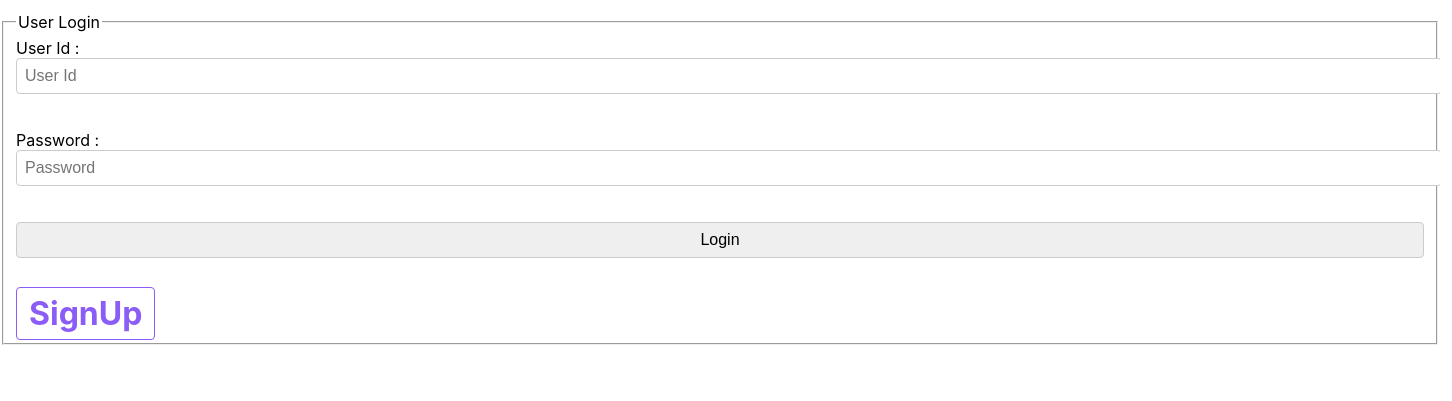
Test case: Login Component › should display invalid message for wrong credentails
Type "hello" into the field with placeholder "User Id" at x=728, y=76, box 16,58 -> 1440,94
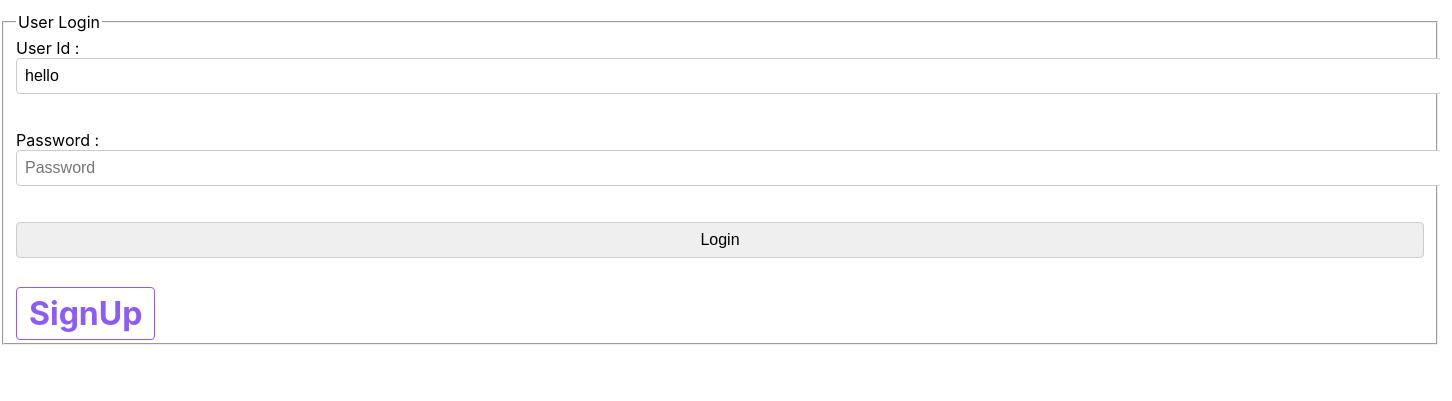
Type "admin123" into the password field with placeholder "Password" at x=728, y=168, box 16,150 -> 1440,186
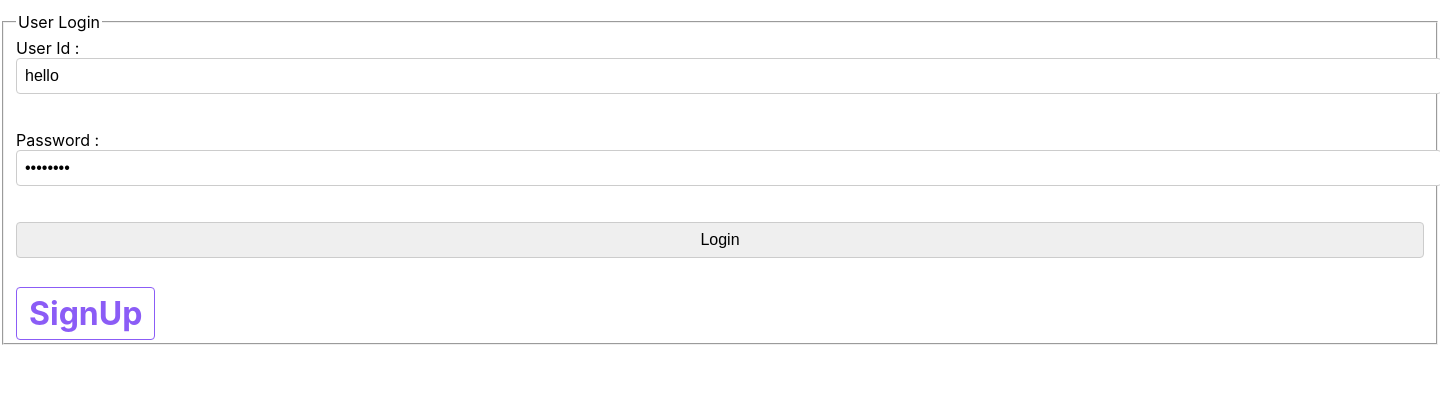
Click the button "Login" at x=720, y=240, box 16,222 -> 1424,258
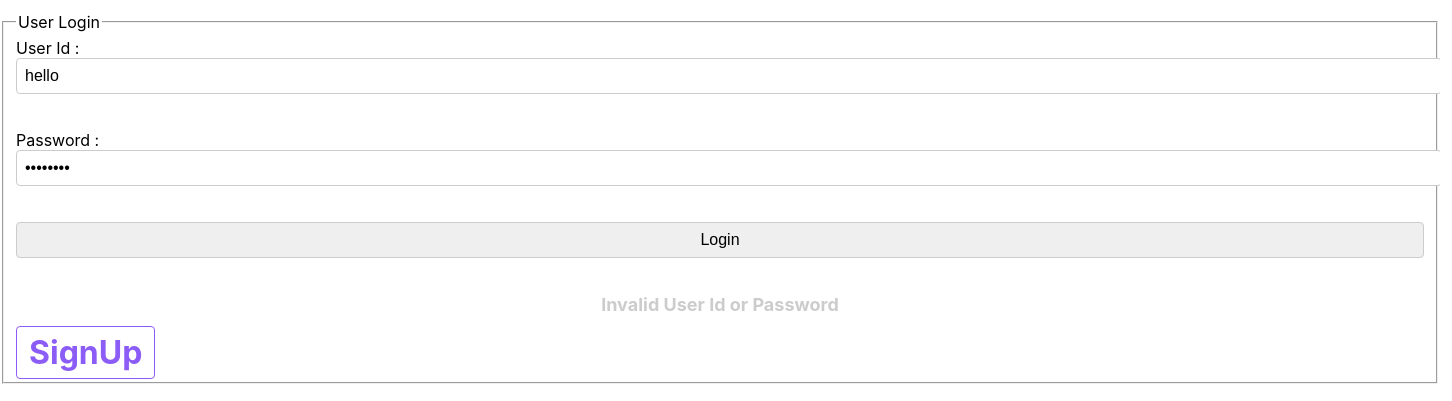
Check: the text with id "result" reads "Invalid User Id or Password", box 601,294 -> 839,315
